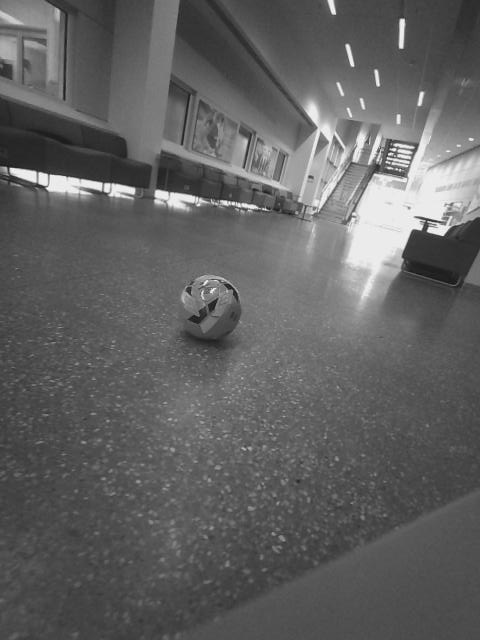ball: (221, 252, 270, 302)
